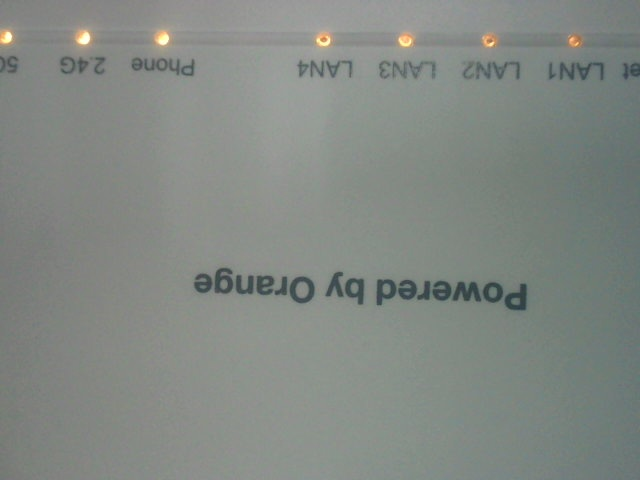AS_PowerByOrange: (167, 256, 531, 319)
